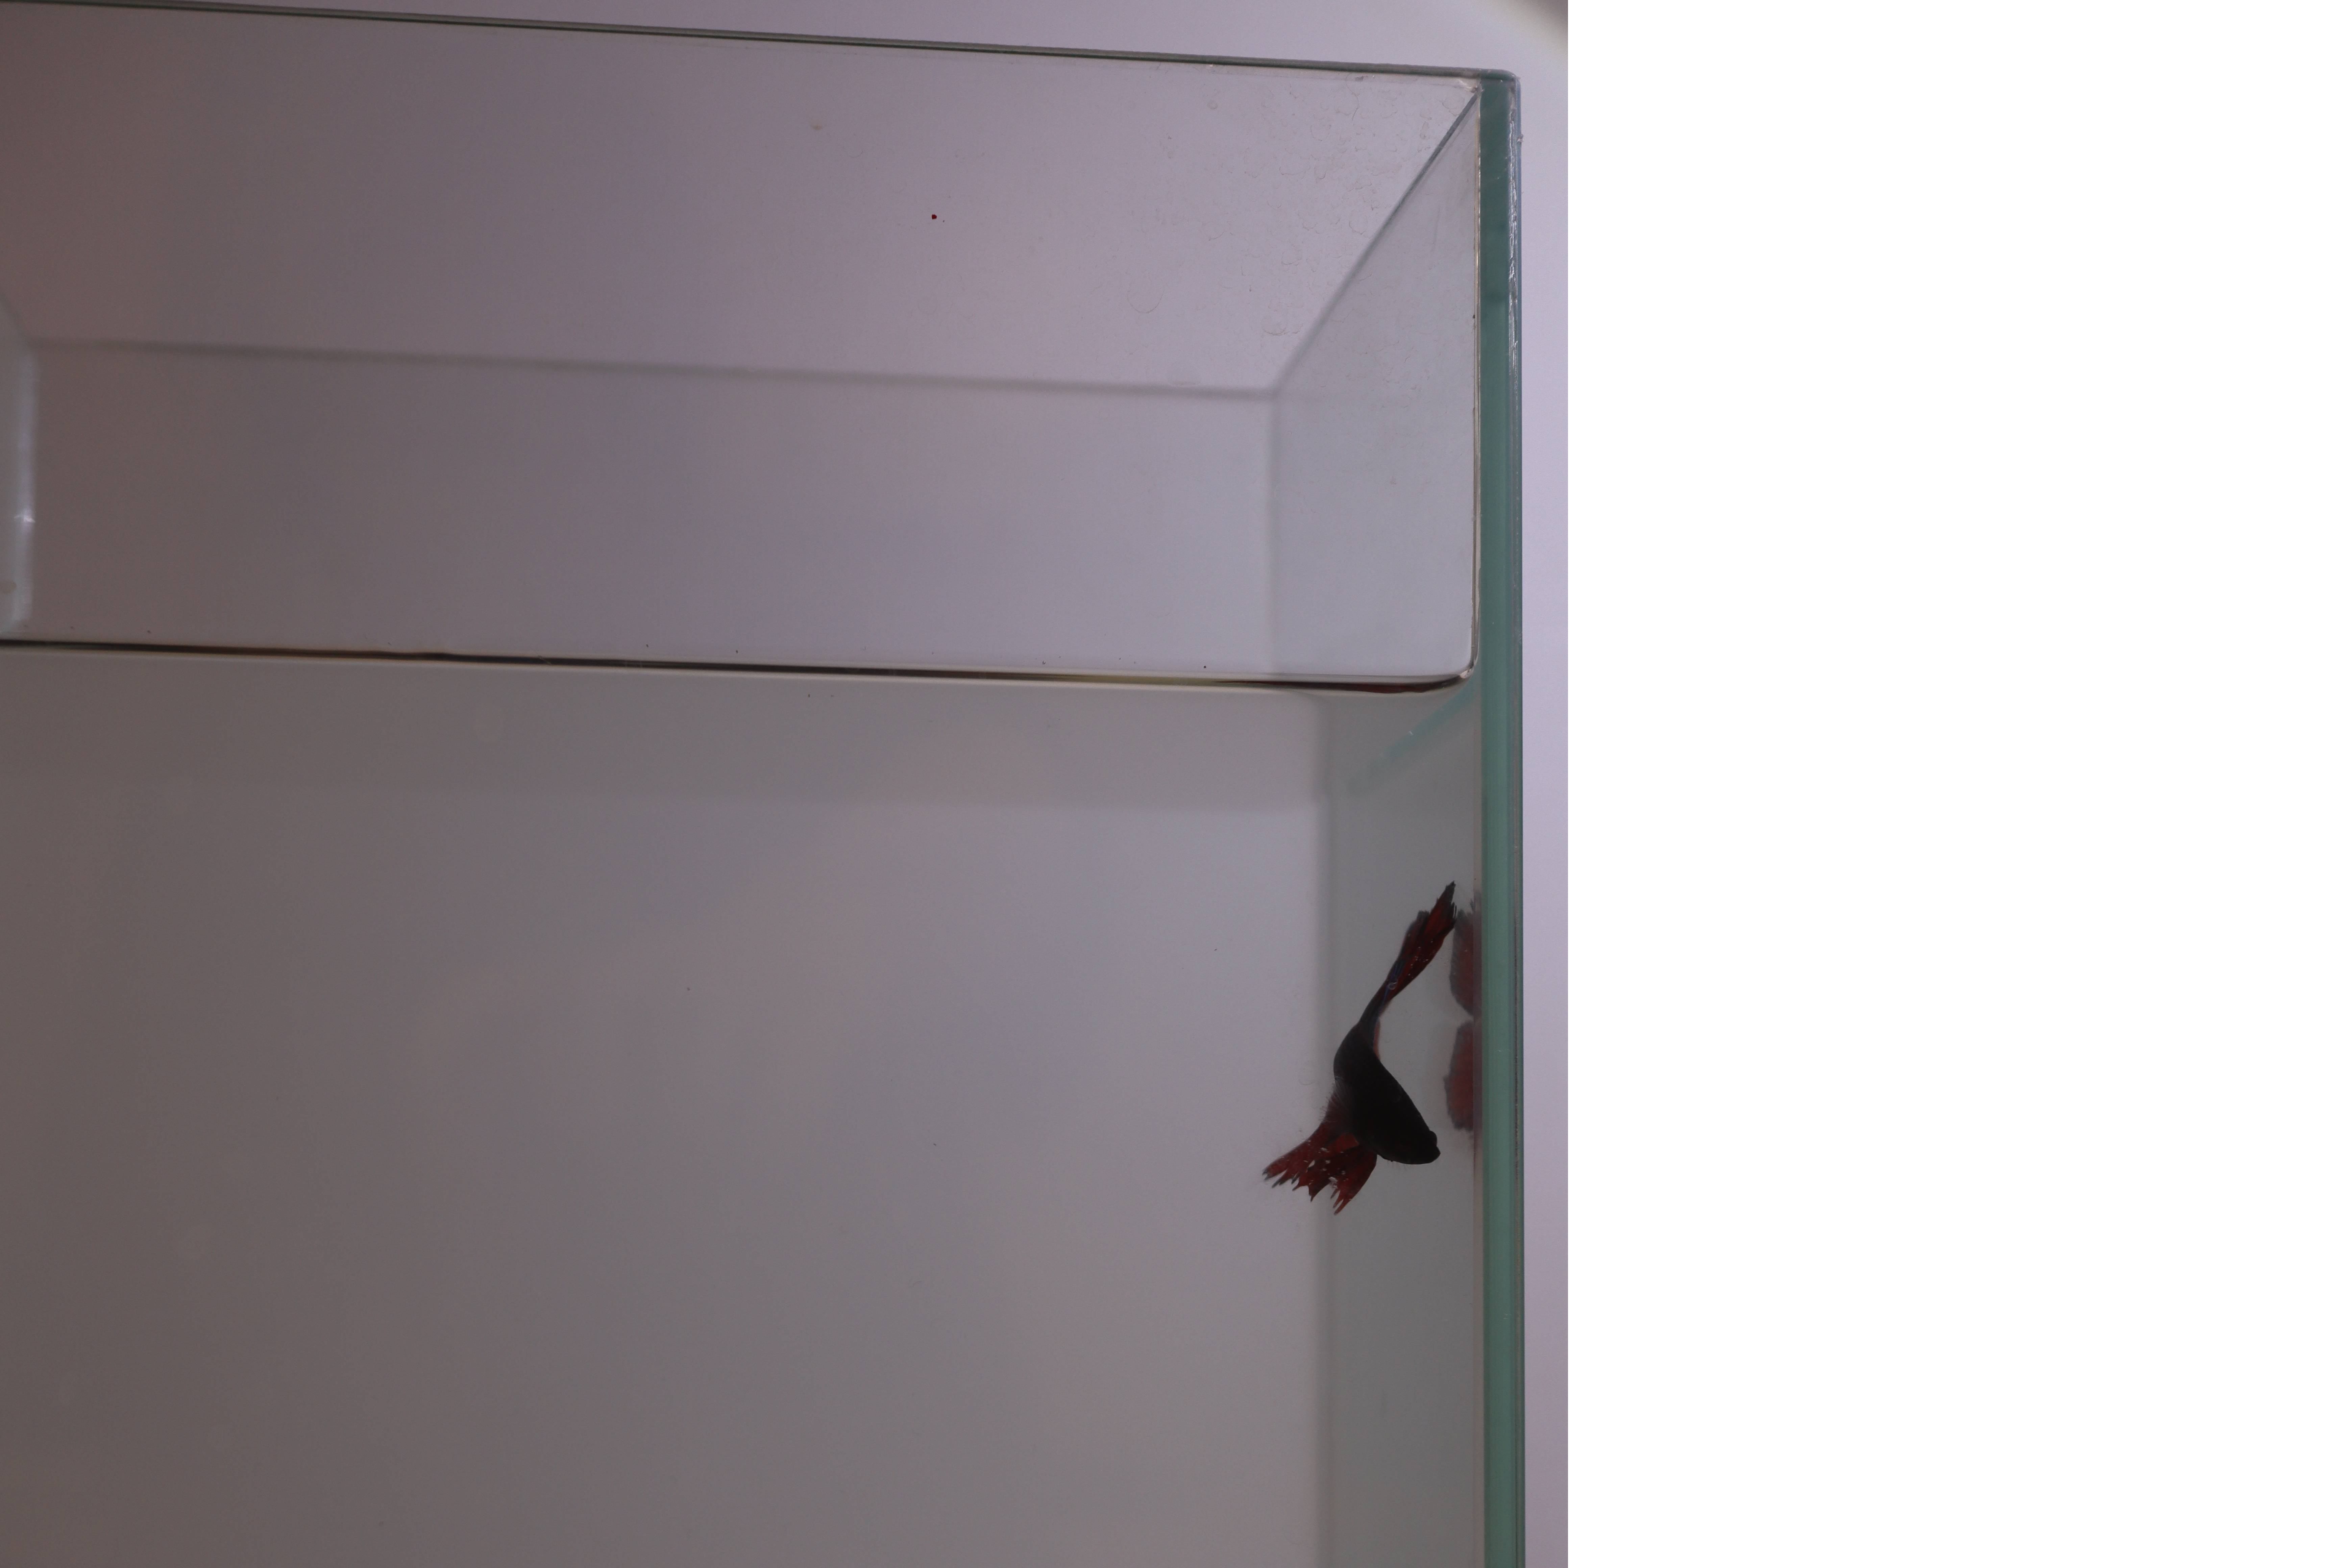fish: (1255, 875, 1465, 1216)
